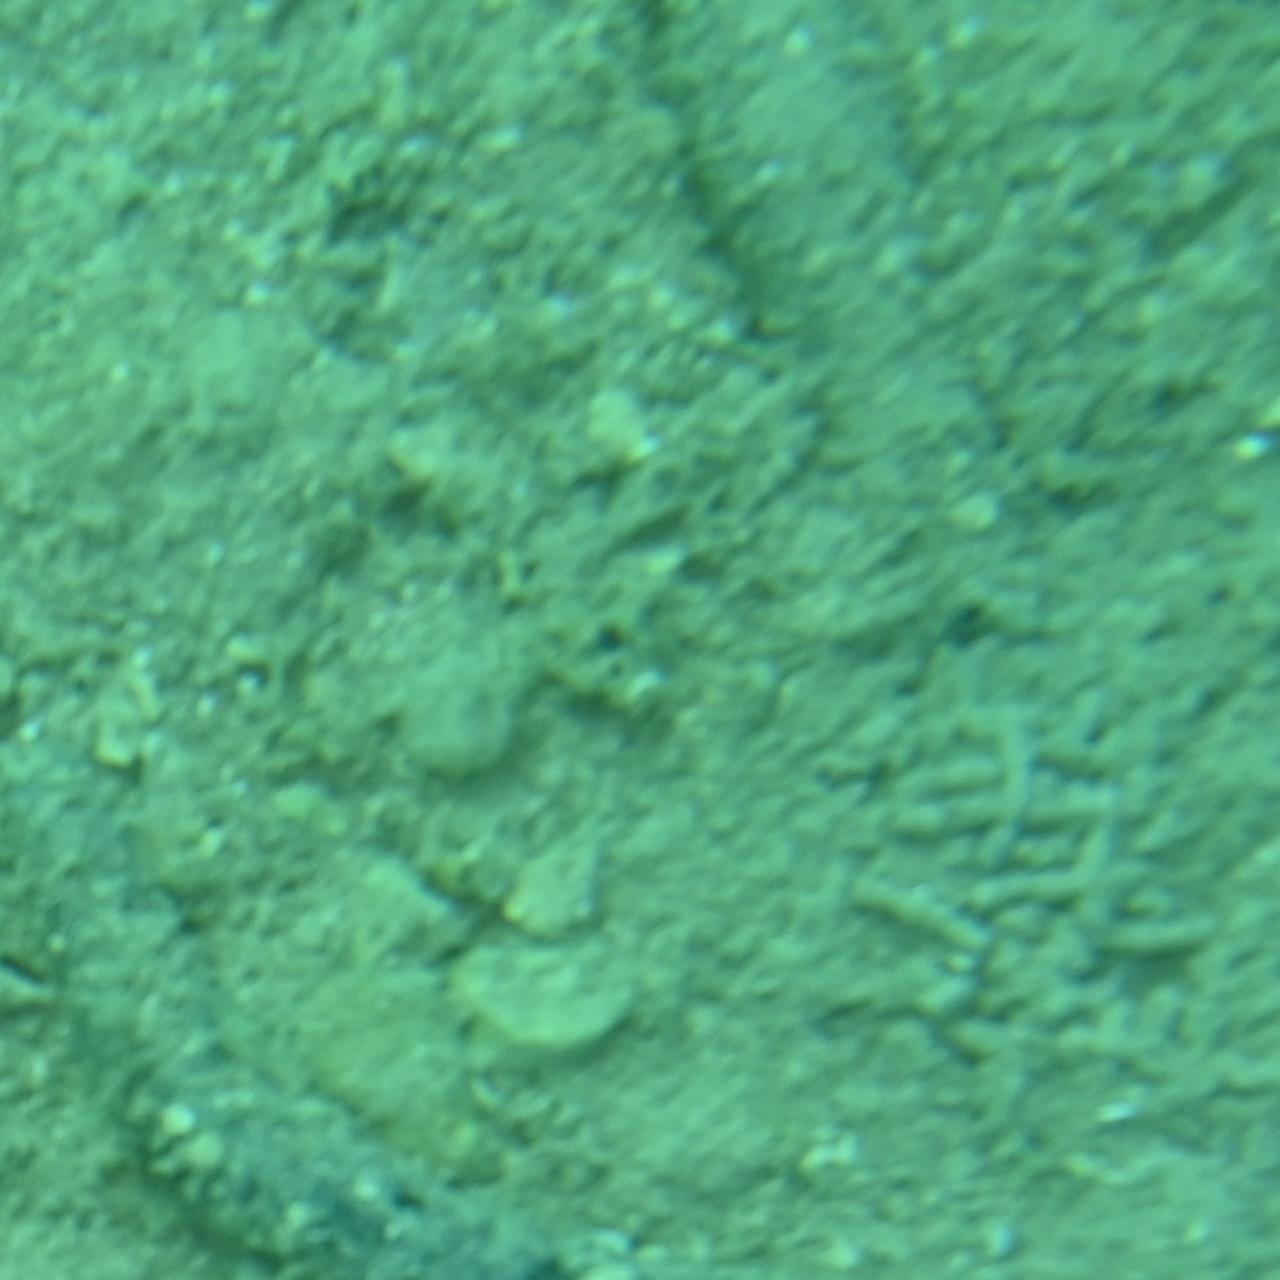Holothuria tubulosa: (0, 686, 831, 1280), (670, 0, 1105, 661)
